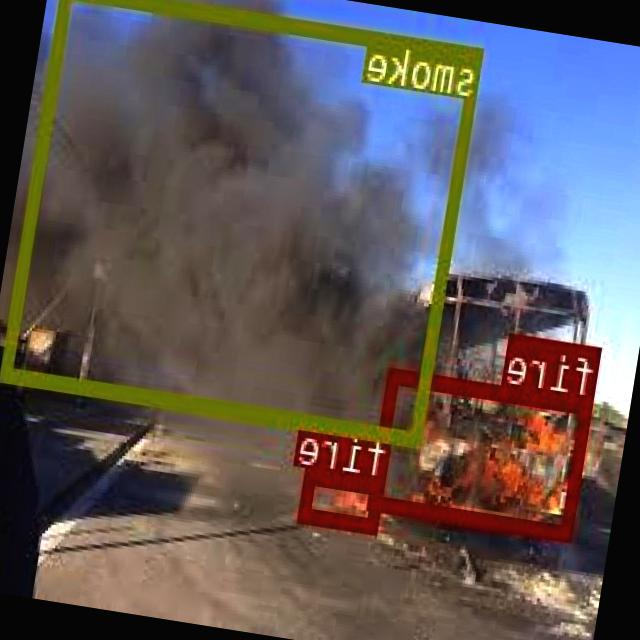fire: (370, 368, 596, 540), (302, 465, 388, 532)
smoke: (3, 0, 485, 446)
